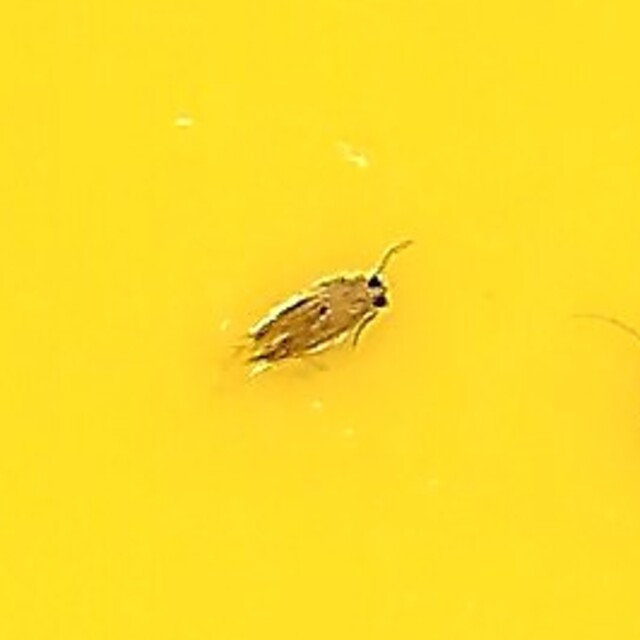Trichoptera: (241, 256, 399, 384)
